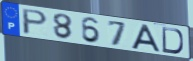6: (81, 16, 101, 45)
7: (107, 20, 129, 48)
8: (52, 13, 74, 40)
A: (130, 23, 163, 54)
D: (161, 26, 185, 55)
P: (22, 8, 50, 36)
